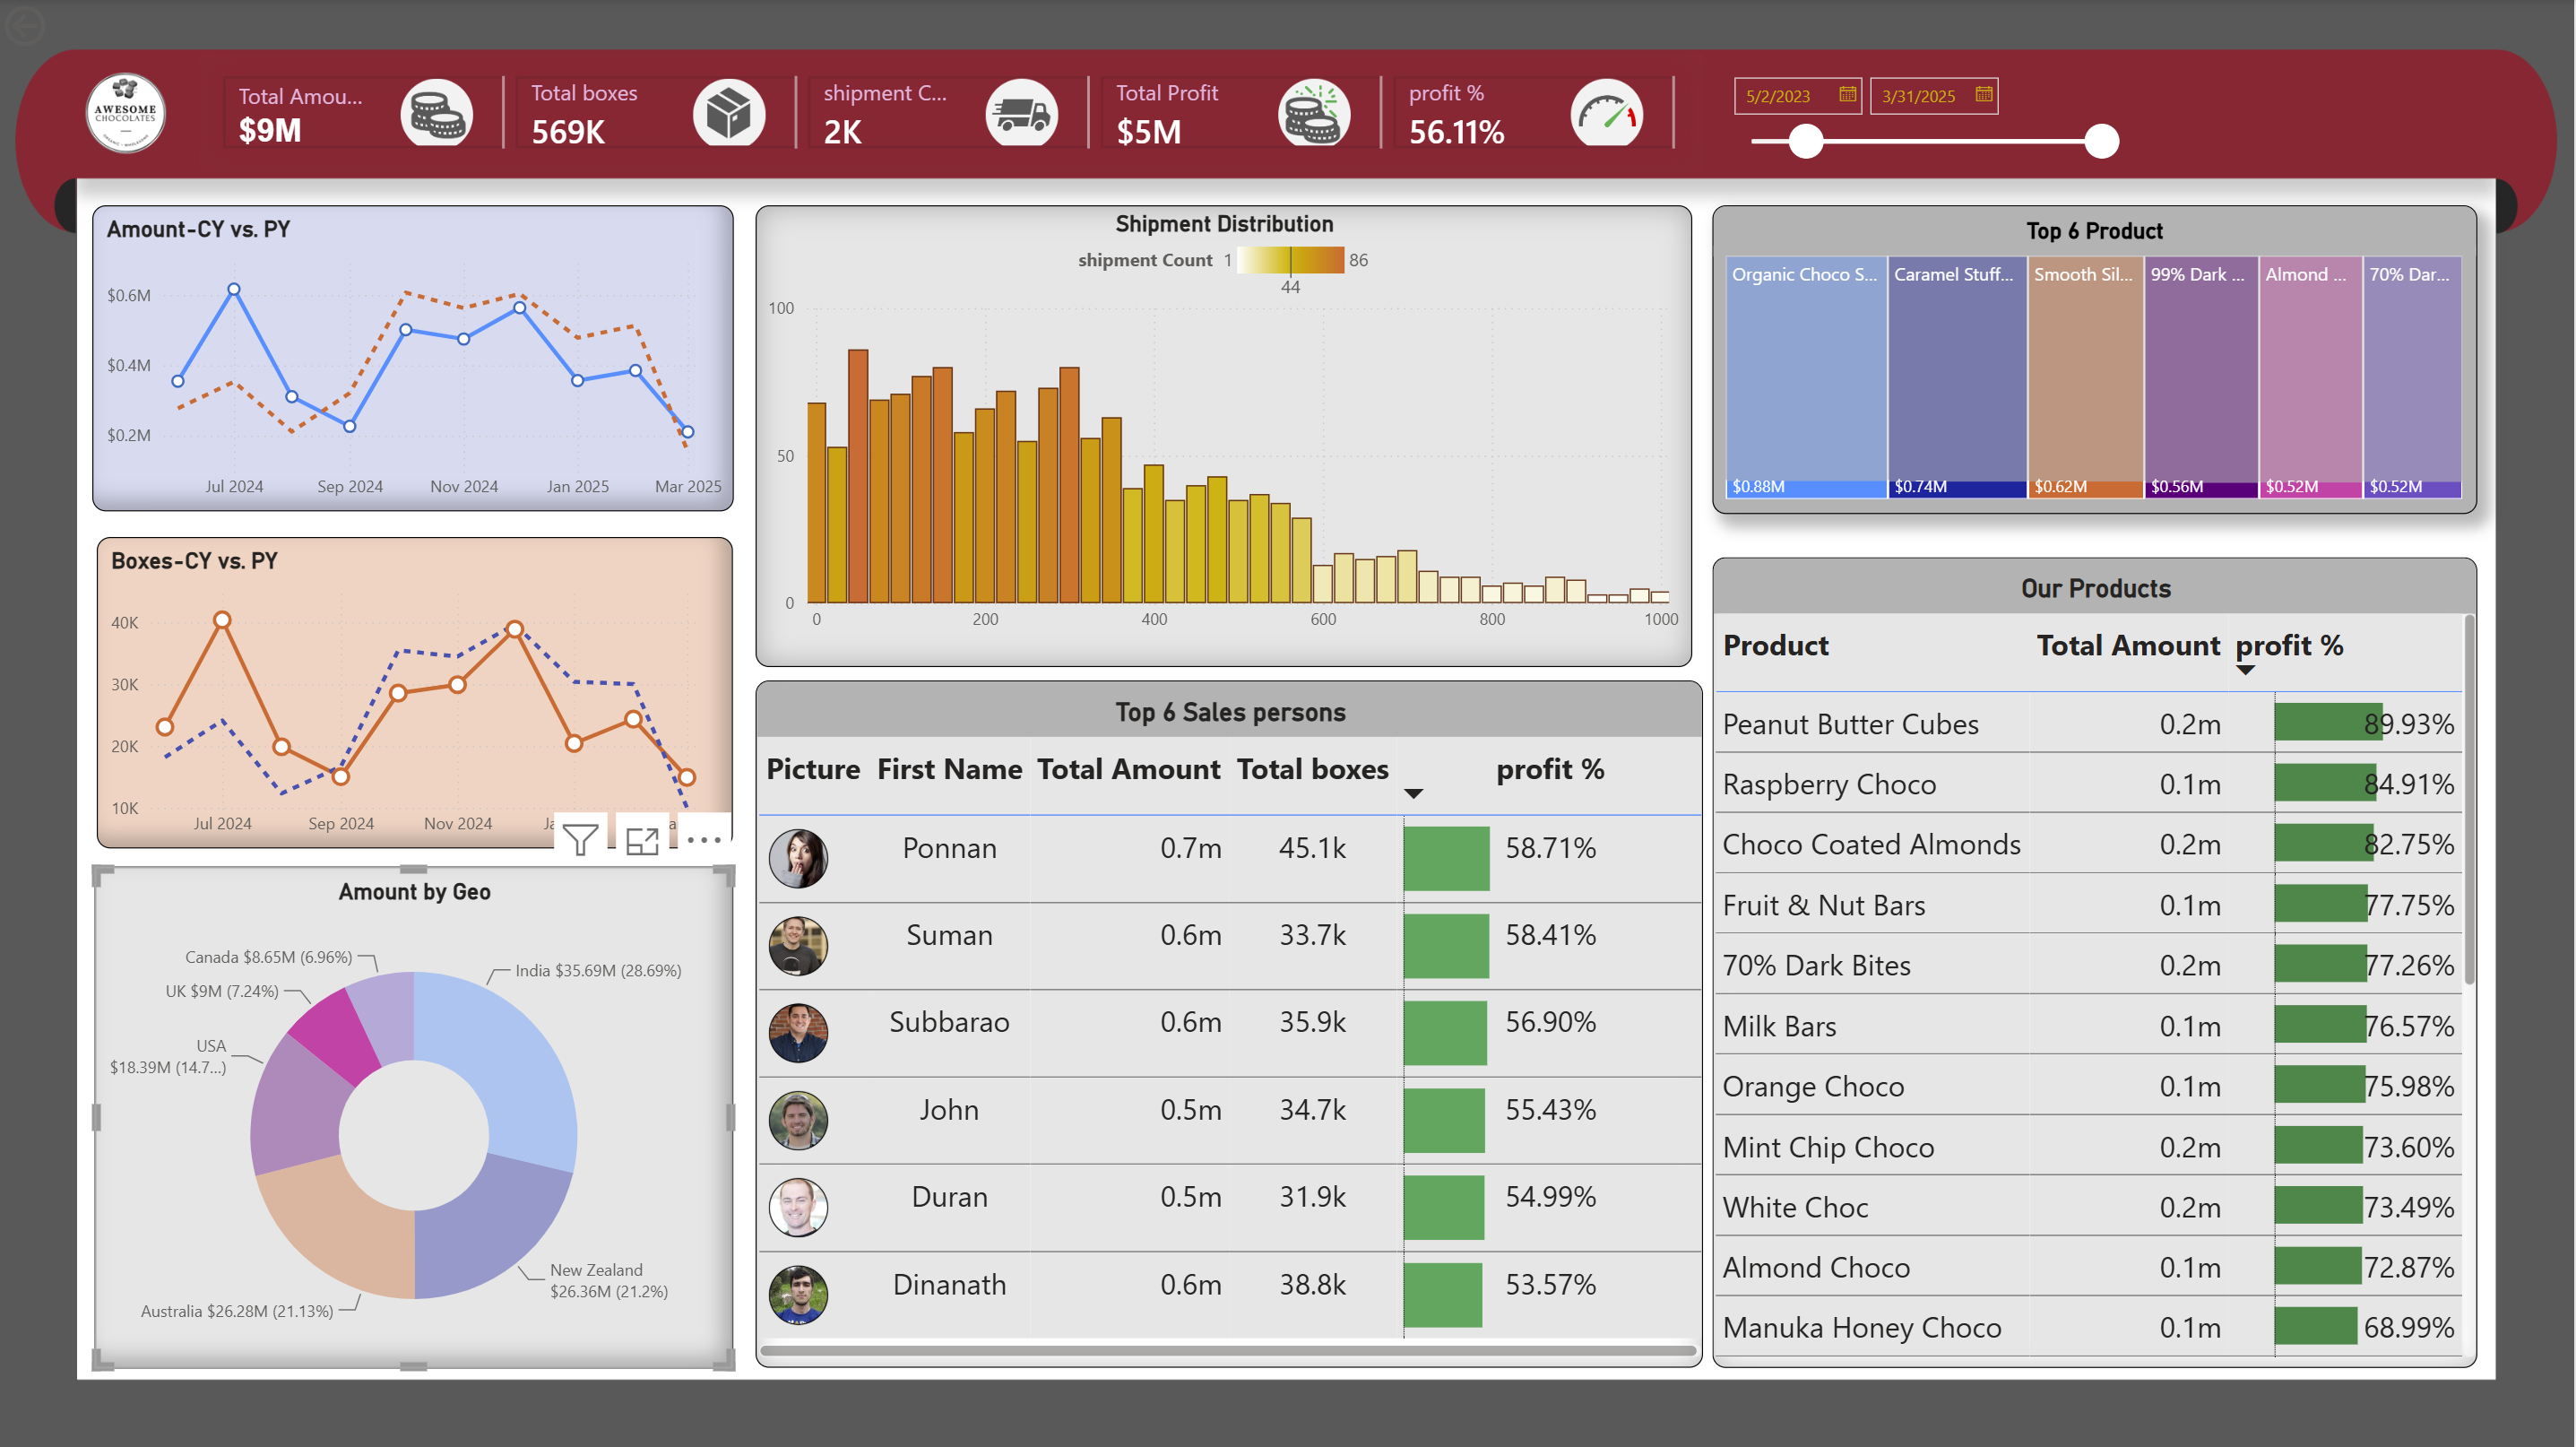

This screenshot's page, from the dashboard's own definition file:
{"tool":"powerbi","page":{"name":"Page 8","canvas":[1920,1080],"ordinal":7},"visuals":[{"type":"lineChart","title":"Amount-CY vs. PY","fields":{"Y":["shipments.Total Amount","shipments.Total amount(last year)"],"Category":["calendar.Start of Month"]},"box":[70,154,478,228],"z":0},{"type":"lineChart","title":"Boxes-CY vs. PY","fields":{"Category":["calendar.Start of Month"],"Y":["shipments.Total boxes","calendar.Total Boxes(last year)"]},"box":[74,400,474,232],"z":1000},{"type":"donutChart","title":"Amount by Geo","fields":{"Category":["locations.Geo"],"Y":["shipments.Total Amount"]},"box":[72,646,476,374],"z":2000},{"type":"clusteredColumnChart","title":"Shipment Distribution","fields":{"Category":["shipments.Boxes (bins)"],"Y":["shipments.shipment Count"]},"box":[564,154,698,344],"z":3000},{"type":"tableEx","title":"Top 6 Sales persons","fields":{"Values":["people.Picture","people.First Name","shipments.Total Amount","shipments.Total boxes","shipments.profit %"]},"box":[564,508,706,512],"z":4000},{"type":"treemap","title":"Top 6 Product","fields":{"Values":["shipments.Total Amount"],"Group":["products.Product"]},"box":[1278,154,570,230],"z":5000},{"type":"actionButton","box":[0,0,100,40],"z":6000},{"type":"tableEx","title":"Our Products","fields":{"Values":["products.Product","shipments.Total Amount","shipments.profit %"]},"box":[1278,416,570,604],"z":7000},{"type":"cardVisual","fields":{"Data":["shipments.Total Amount","shipments.Total boxes","shipments.shipment Count","shipments.Total Profit","shipments.profit %"]},"box":[150,40,1120,88],"z":8000},{"type":"slicer","fields":{"Values":["calendar.cal_date"]},"box":[1280,48,308,72],"z":9000}]}

Visuals, with their boxes on the page's 1920x1080 design canvas (x1, y1, x2, y2). These are canvas units, not pixel positions in the 2576x1447 screenshot, which may show the page scaled, cropped or inside an application window:
"Amount-CY vs. PY" lineChart: x1=70 y1=154 x2=548 y2=382
"Boxes-CY vs. PY" lineChart: x1=74 y1=400 x2=548 y2=632
"Amount by Geo" donutChart: x1=72 y1=646 x2=548 y2=1020
"Shipment Distribution" clusteredColumnChart: x1=564 y1=154 x2=1262 y2=498
"Top 6 Sales persons" tableEx: x1=564 y1=508 x2=1270 y2=1020
"Top 6 Product" treemap: x1=1278 y1=154 x2=1848 y2=384
actionButton: x1=0 y1=0 x2=100 y2=40
"Our Products" tableEx: x1=1278 y1=416 x2=1848 y2=1020
cardVisual - shipments.Total Amount x shipments.Total boxes: x1=150 y1=40 x2=1270 y2=128
slicer - calendar.cal_date: x1=1280 y1=48 x2=1588 y2=120
